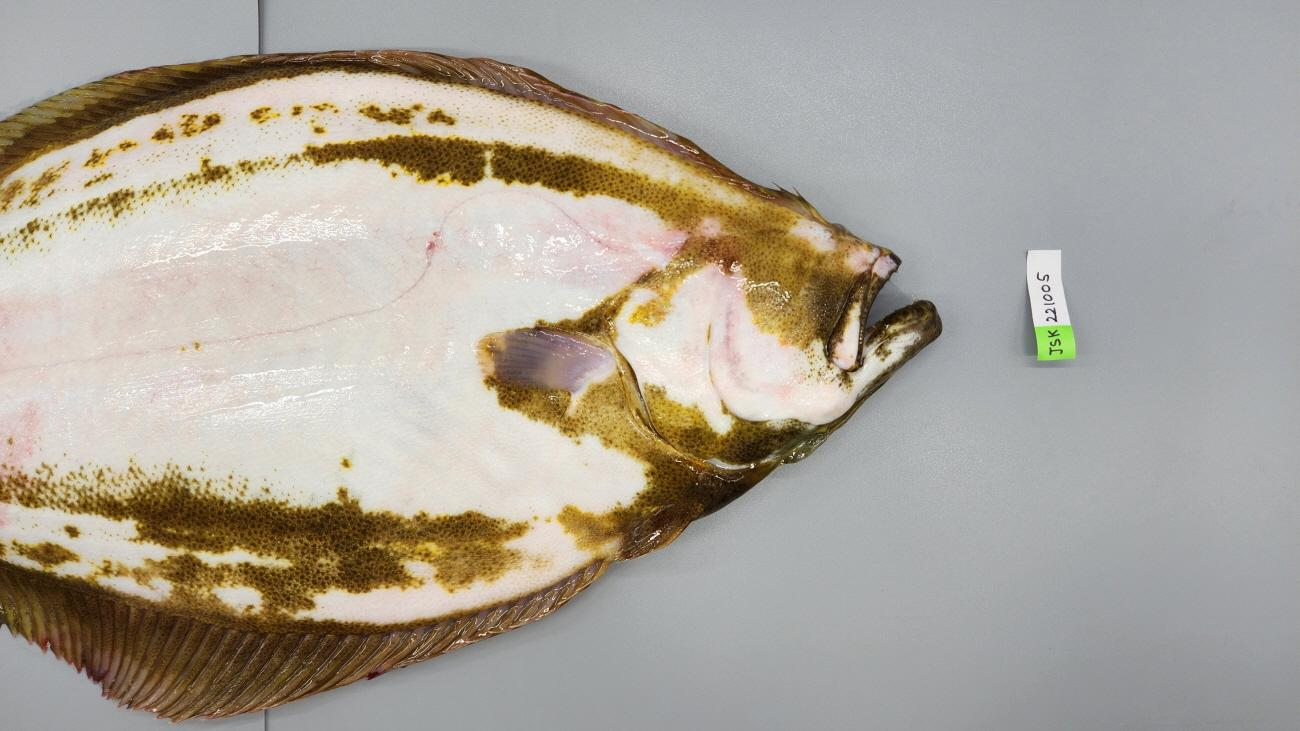POOUN: (0, 50, 942, 724)
